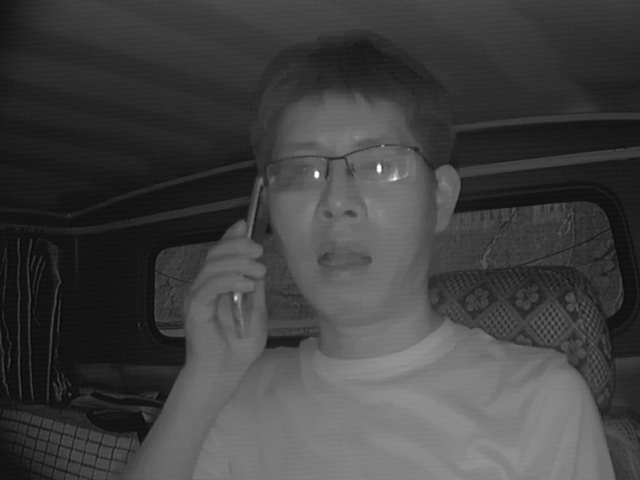hand: (182, 220, 268, 371)
